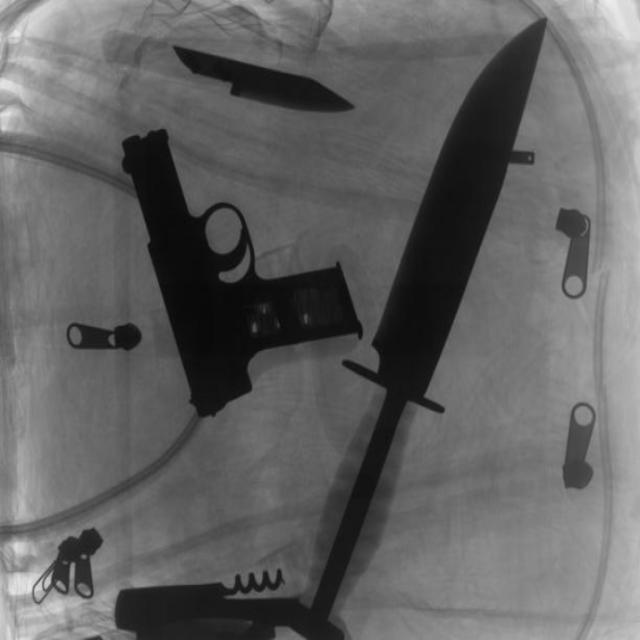GUN: (121, 123, 359, 417)
KNIFE: (170, 30, 355, 124)
